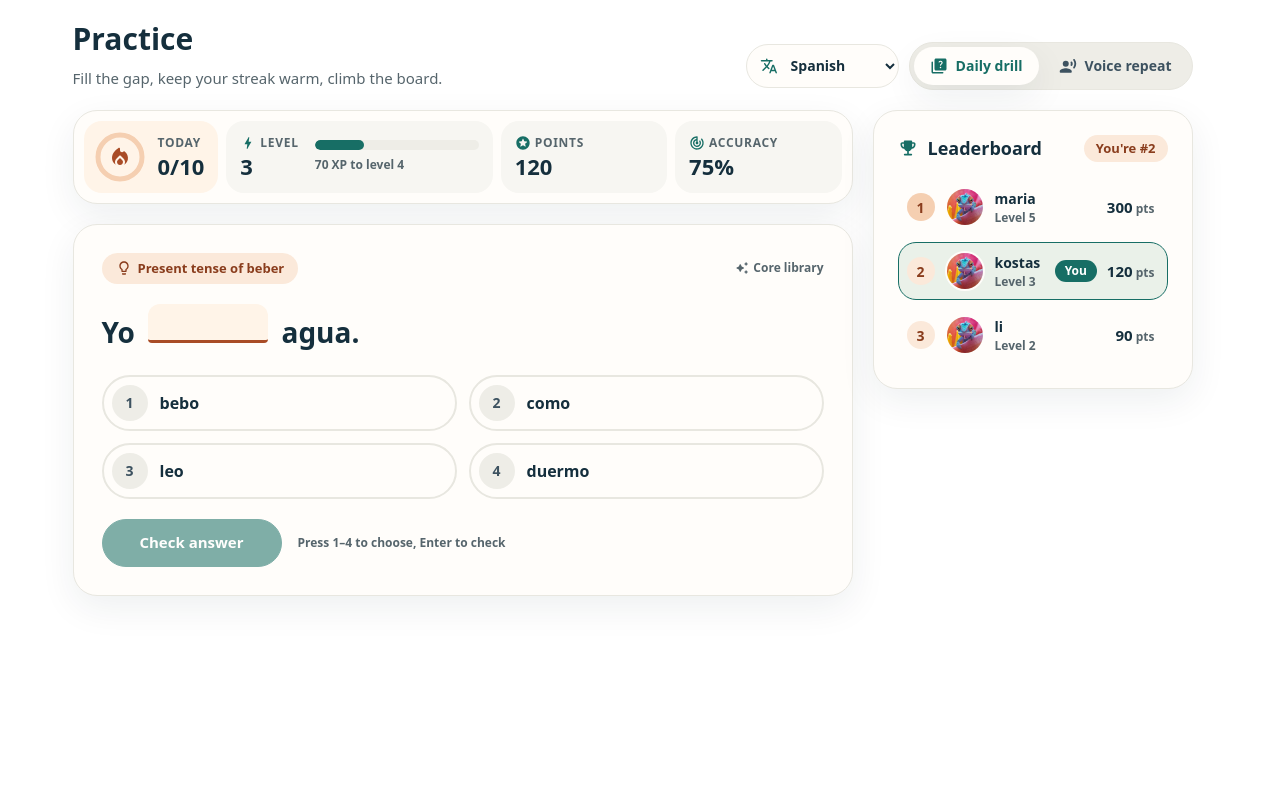
it: PracticePage › wrong answer shows the right answer and can translate the sentence
The width and height of the screenshot is (1280, 800).
Expected: the text "Present tense of beber" is shown, 102,252 -> 298,284
Click the button "2 como" at (496, 403), box 468,375 -> 824,431
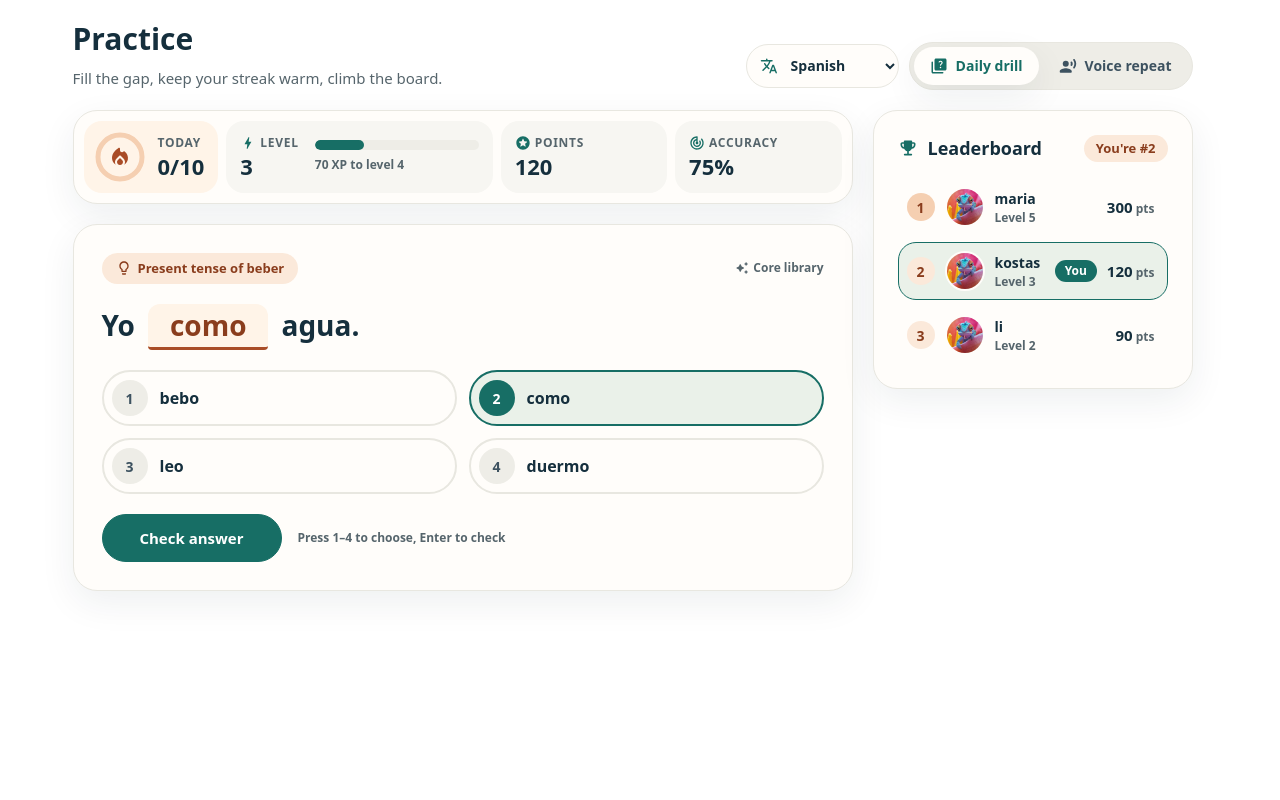
Click the button "Check answer" at (192, 538), box 102,514 -> 282,562
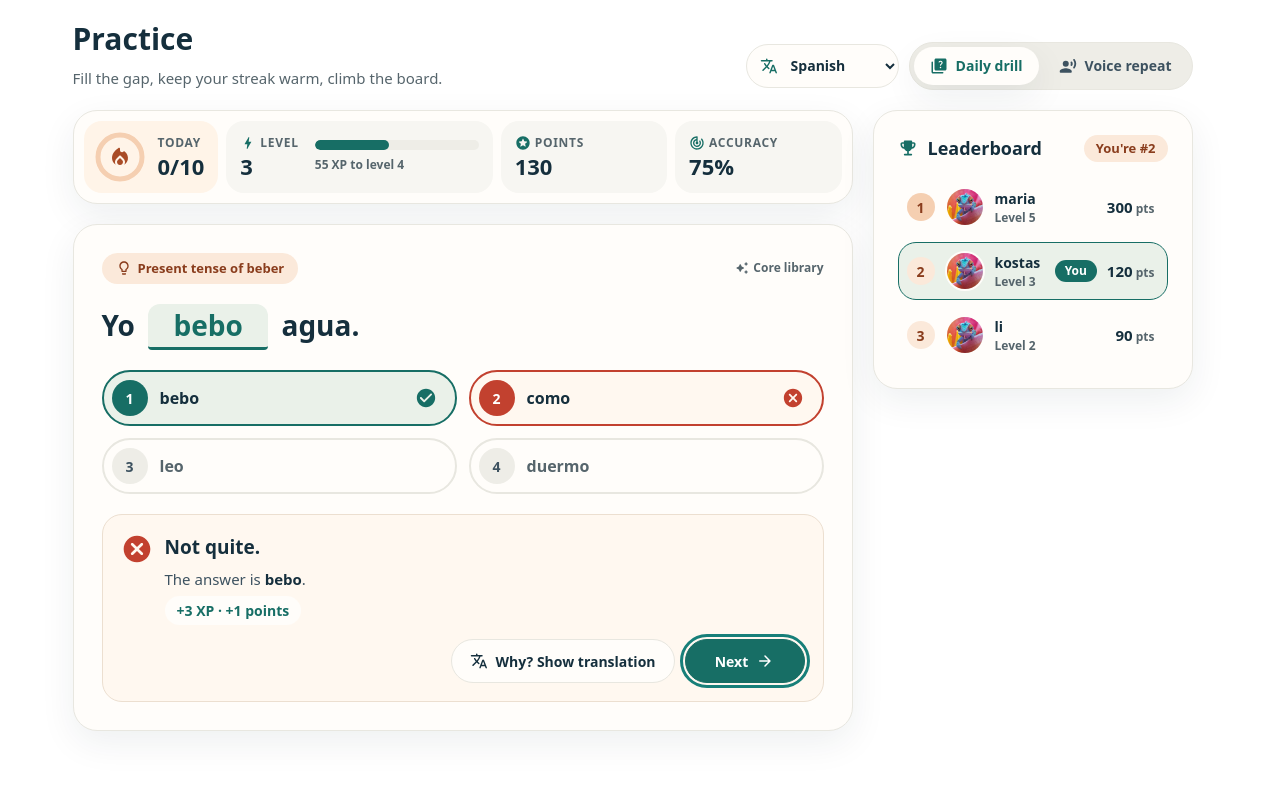
Expected: the text "0/10" is shown, 158,154 -> 204,179
Result: the text "Not quite." is shown at 164,533 -> 260,562
Result: the text "bebo" next to "The answer is" is shown at 265,569 -> 302,589
Click the button "Why? Show translation" at (563, 661), box 451,639 -> 674,683
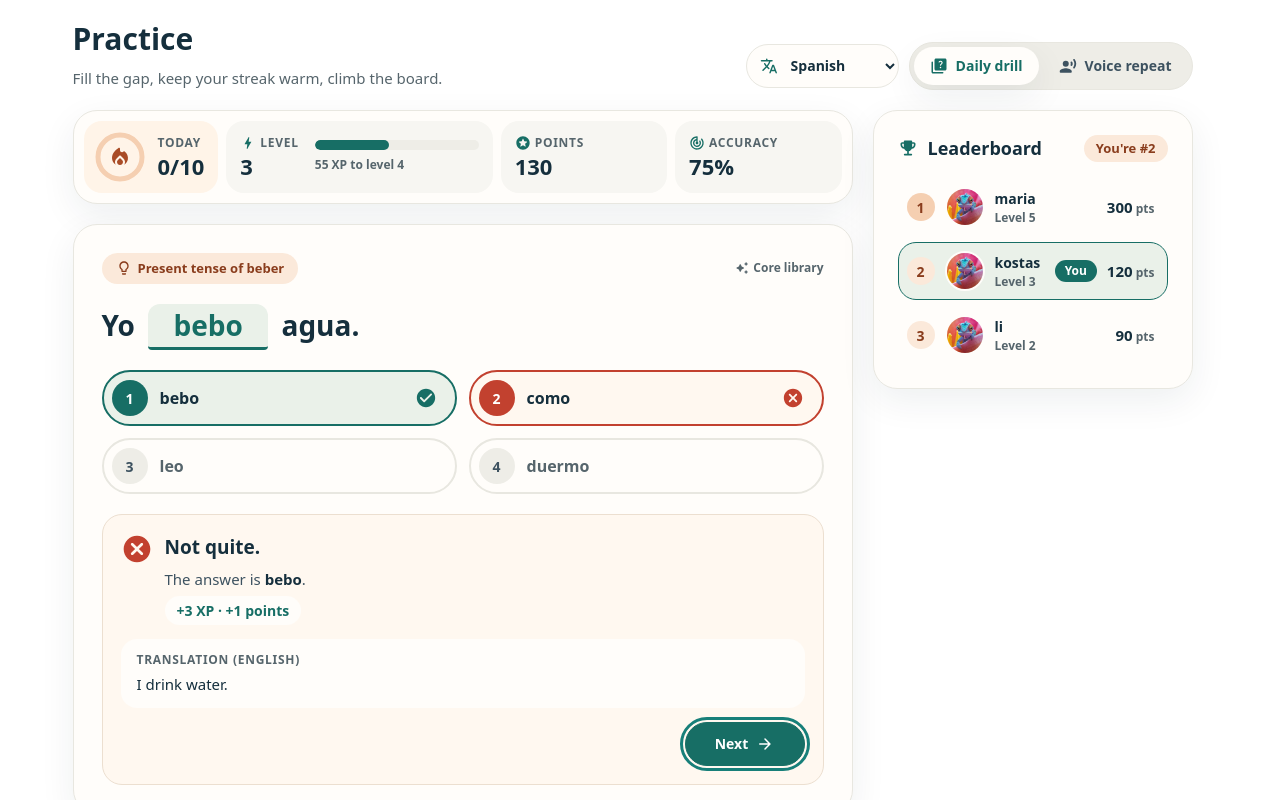
Result: the text "I drink water." is shown at 136,674 -> 228,694
